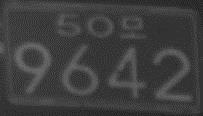0: (86, 14, 114, 39)
2: (152, 47, 193, 102)
4: (107, 47, 145, 99)
5: (56, 12, 81, 37)
6: (60, 42, 98, 96)
9: (13, 41, 52, 93)
모: (120, 15, 146, 39)
